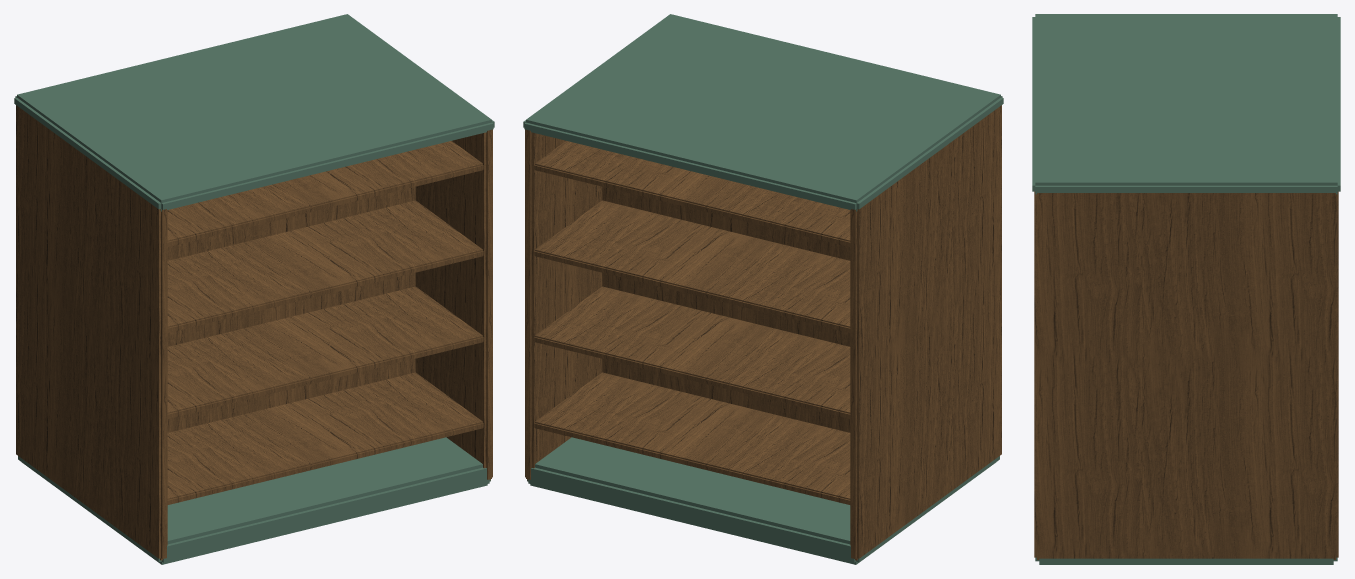
File: fixture_v25_genre_gondola.glb
3 views of the same model, side by side, from view 1: azimuth 30°, elevation 25°; view 2: azimuth 150°, elevation 25°; view 3: azimuth 270°, elevation 25° (orthographic). The views are drawn at different scales.
Parts seen in each view (by area): view 1: fixture_v25_genre_gondola_CC0_Oak_veneer, fixture_v25_genre_gondola_V25_cafe_sage; view 2: fixture_v25_genre_gondola_CC0_Oak_veneer, fixture_v25_genre_gondola_V25_cafe_sage; view 3: fixture_v25_genre_gondola_CC0_Oak_veneer, fixture_v25_genre_gondola_V25_cafe_sage.
Boxes of the visible parts, left/top/right/bottom form: fixture_v25_genre_gondola_CC0_Oak_veneer: left=16, top=105, right=492, bottom=560; fixture_v25_genre_gondola_V25_cafe_sage: left=14, top=14, right=494, bottom=564; fixture_v25_genre_gondola_CC0_Oak_veneer: left=525, top=105, right=1001, bottom=560; fixture_v25_genre_gondola_V25_cafe_sage: left=523, top=14, right=1003, bottom=564; fixture_v25_genre_gondola_CC0_Oak_veneer: left=1034, top=191, right=1338, bottom=559; fixture_v25_genre_gondola_V25_cafe_sage: left=1032, top=14, right=1340, bottom=564.
Size of the model in its own units: 1.88 by 1.96 by 1.43.
Materials: 2 (1 with a texture image).
